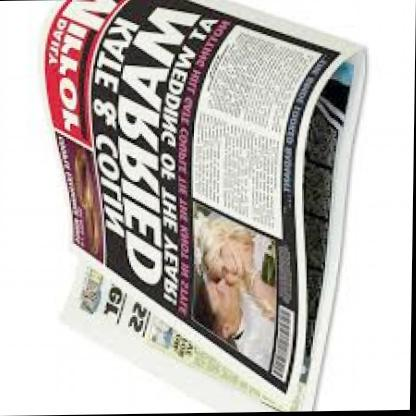Paper: (6, 1, 369, 416)
